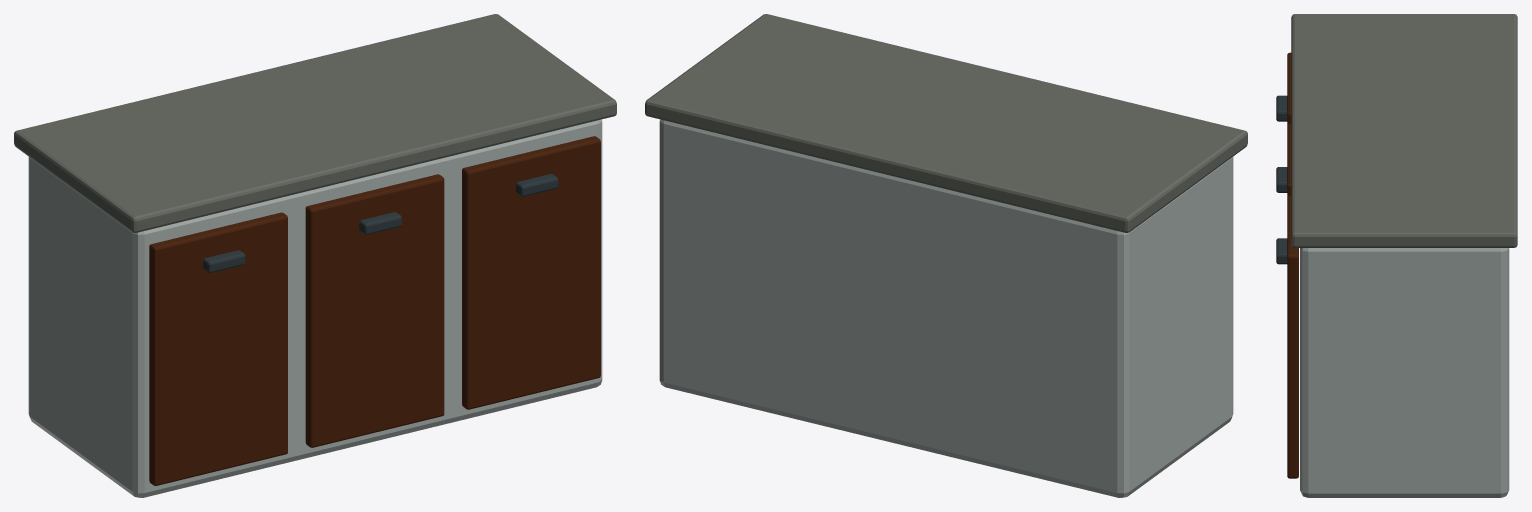
File: KitchenCounter.fbx
3 views of the same model, side by side, from view 1: azimuth 30°, elevation 25°; view 2: azimuth 150°, elevation 25°; view 3: azimuth 270°, elevation 25° (orthographic). The views are drawn at different scales.
Visible parts, largest first — view 1: KitchenCounter; view 2: KitchenCounter; view 3: KitchenCounter.
Part boxes in pixels (<box>): KitchenCounter: <box>14,14,616,497</box>; KitchenCounter: <box>645,14,1247,497</box>; KitchenCounter: <box>1276,14,1517,497</box>.
Bounding box in the file's own units: 155 × 71.5 × 88.5.
